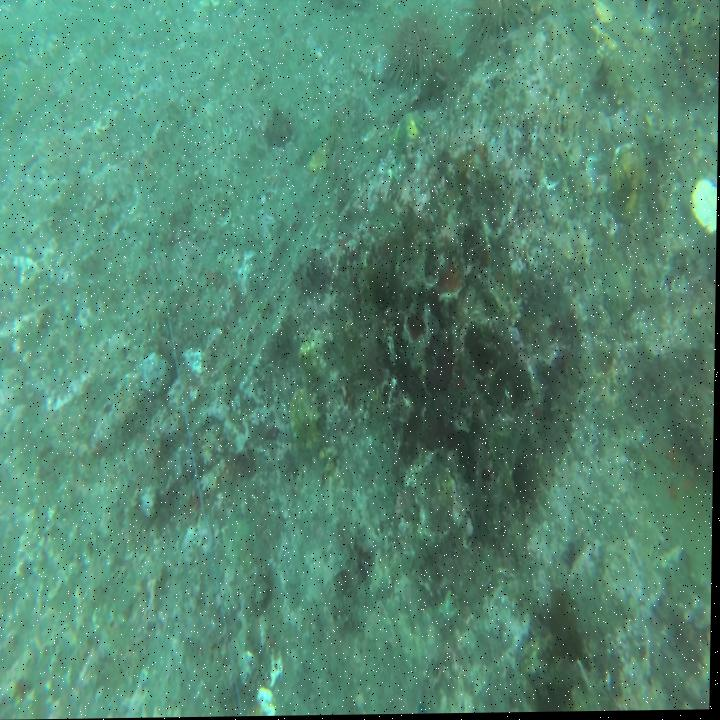echinus: (378, 7, 446, 91), (469, 0, 531, 43)
scallop: (607, 144, 646, 230), (589, 0, 623, 69), (391, 111, 425, 155)
